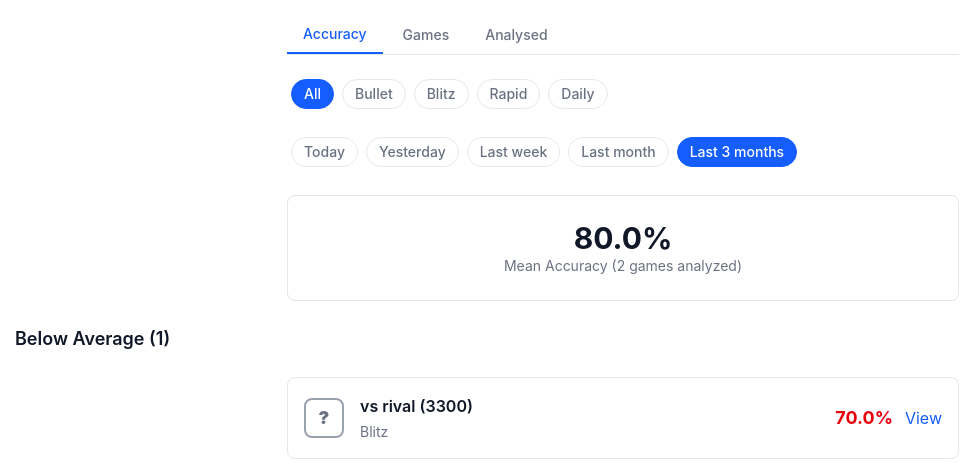
Test: PlayerPage › switches to the Games tab when clicked
Click the tab "Games" at (426, 35), box top-left (387, 16), bottom-right (465, 54)
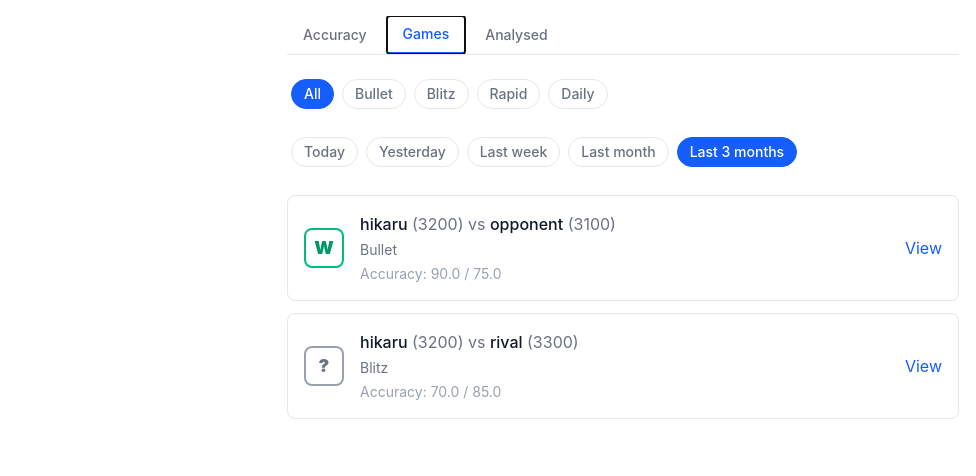
Expected: the text "rival" is shown, top-left (490, 332), bottom-right (523, 352)
Result: the text "opponent" is shown at top-left (490, 214), bottom-right (563, 234)
